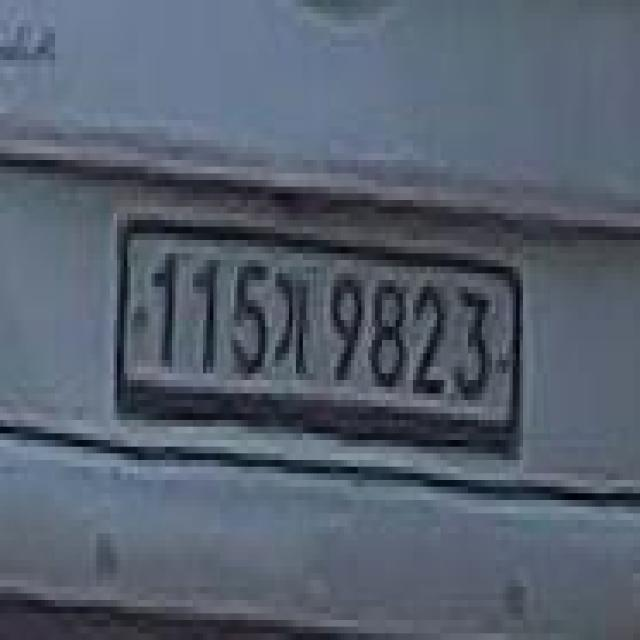illegal_plate: (108, 204, 533, 472)
